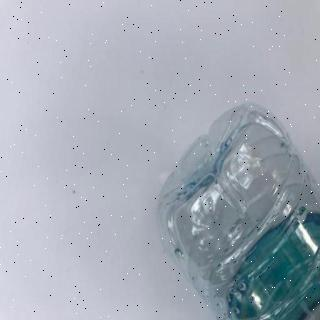Plastic-bottle: (157, 101, 320, 320)
